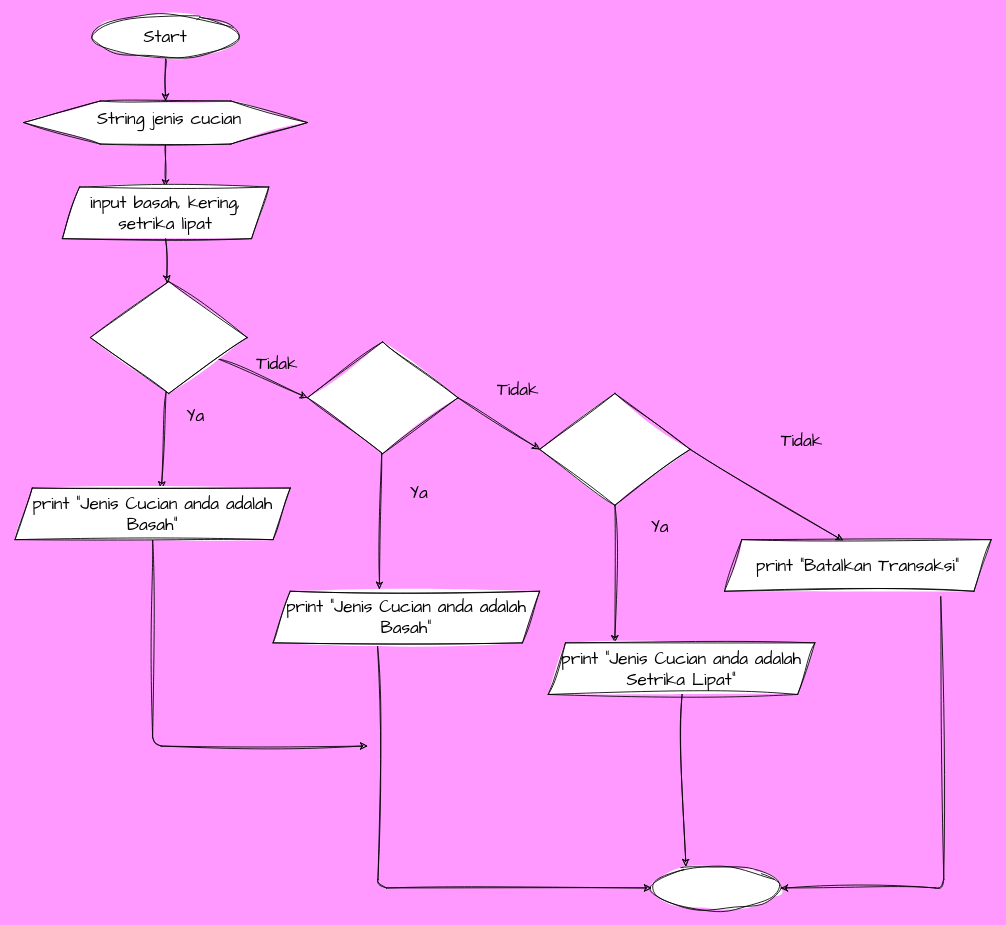
This 1006x925 diagram has some shape labels left out. The centre of each missing label's shape, as x and y in pixels:
End: point 715,887
pilihan= basah: point 168,337
pilihan= setrika lipat: point 614,449
pilihan=kering: point 382,397
